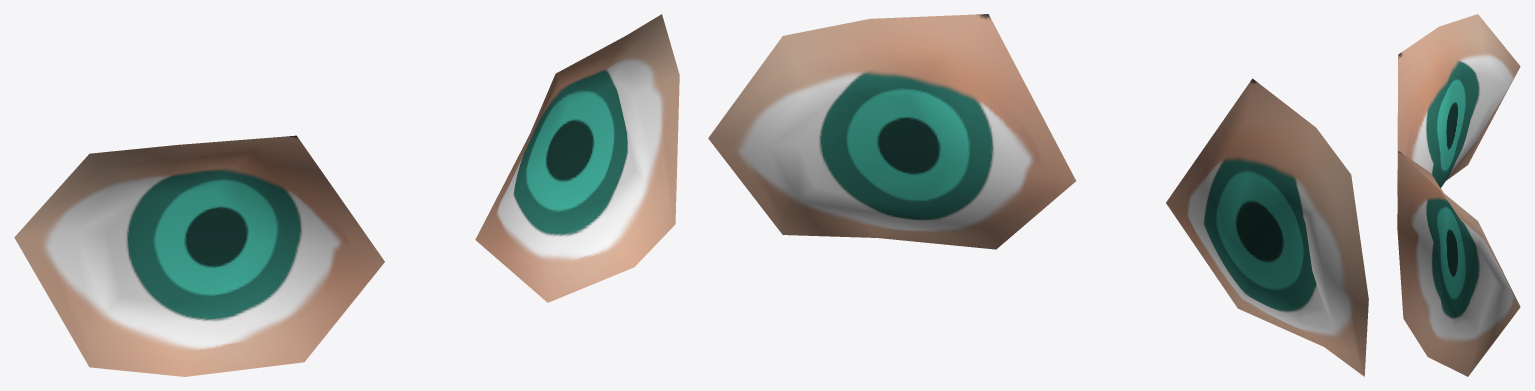
The model's file is GuoYongEyes Model.fbx.
3 renders of one model, left to right at view 1: azimuth 30°, elevation 25°; view 2: azimuth 150°, elevation 25°; view 3: azimuth 270°, elevation 25°, orthographic. The views are drawn at different scales.
Parts seen in each view (by area): view 1: EyeL, EyeR; view 2: EyeR, EyeL; view 3: EyeR, EyeL.
Boxes of the visible parts, bbox=[...] form: EyeL: bbox=[14, 135, 384, 376]; EyeR: bbox=[475, 14, 679, 302]; EyeR: bbox=[708, 14, 1075, 249]; EyeL: bbox=[1166, 78, 1368, 376]; EyeR: bbox=[1397, 151, 1520, 376]; EyeL: bbox=[1397, 14, 1520, 195].
Bounding box in the file's own units: 15.71 × 5.27 × 3.4.
1 material, 1 textured.
